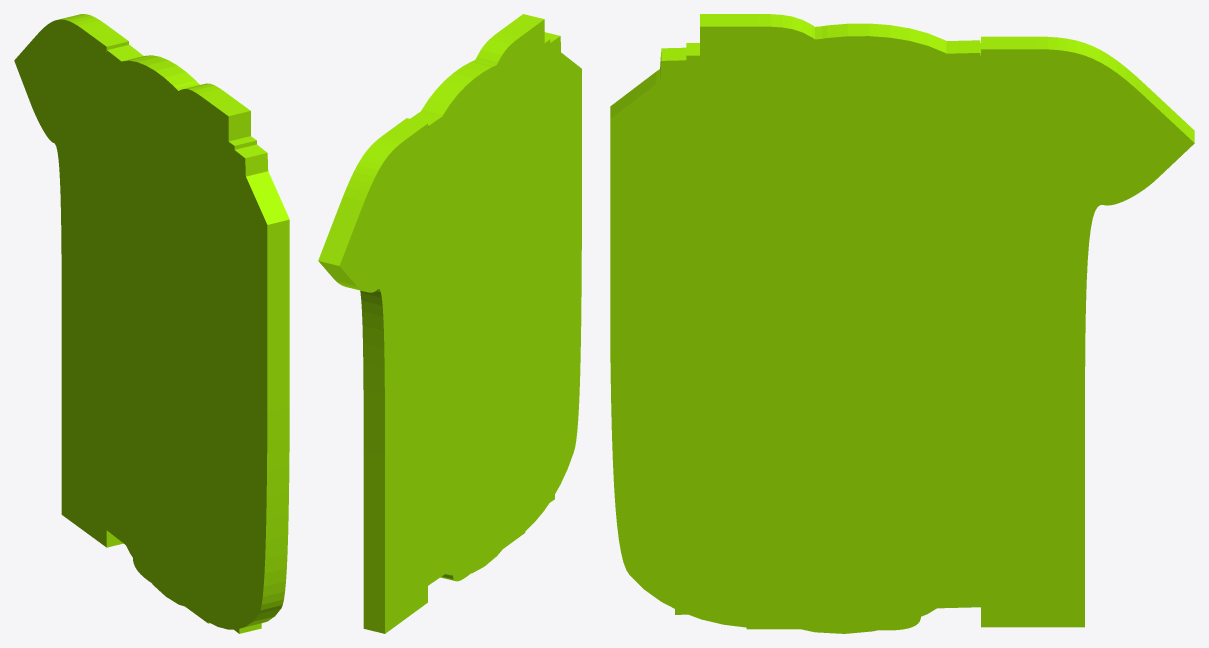
Rendered from Numbers.fbx.
3 renders of one model, left to right at view 1: azimuth 30°, elevation 25°; view 2: azimuth 150°, elevation 25°; view 3: azimuth 270°, elevation 25°, orthographic. The views are drawn at different scales.
Parts seen in each view (by area): view 1: 10, 0, 2, 4, 3, 1, 6, 8, 5, 7, 9; view 2: 10, 0, 2, 4, 3, 6, 9, 1, 8, 5, 7; view 3: 10, 0, 4, 1, 7, 3, 5, 2, 8, 9, 6.
Part boxes in pixels (x1,y1,x2,y2): 10: [14, 14, 289, 629]; 0: [91, 55, 232, 589]; 2: [99, 67, 261, 633]; 4: [87, 83, 250, 616]; 3: [102, 71, 242, 600]; 1: [131, 96, 209, 623]; 6: [98, 73, 239, 602]; 8: [102, 79, 235, 606]; 5: [99, 50, 256, 606]; 7: [107, 44, 268, 598]; 9: [100, 77, 240, 605]; 10: [318, 47, 581, 633]; 0: [414, 61, 548, 564]; 2: [419, 59, 554, 588]; 4: [409, 14, 544, 532]; 3: [425, 58, 558, 562]; 6: [419, 65, 554, 568]; 9: [421, 74, 555, 569]; 1: [443, 55, 525, 563]; 8: [426, 67, 551, 571]; 5: [421, 38, 550, 575]; 7: [410, 32, 562, 581]; 10: [610, 36, 1194, 627]; 0: [691, 23, 1015, 611]; 4: [700, 14, 1026, 604]; 1: [746, 51, 957, 629]; 7: [656, 40, 980, 630]; 3: [666, 39, 990, 616]; 5: [686, 43, 997, 633]; 2: [675, 26, 1001, 614]; 8: [683, 45, 992, 626]; 9: [672, 49, 998, 621]; 6: [675, 43, 1001, 618].
Bounding box in the file's own units: 1.25 × 28.1 × 24.52.
